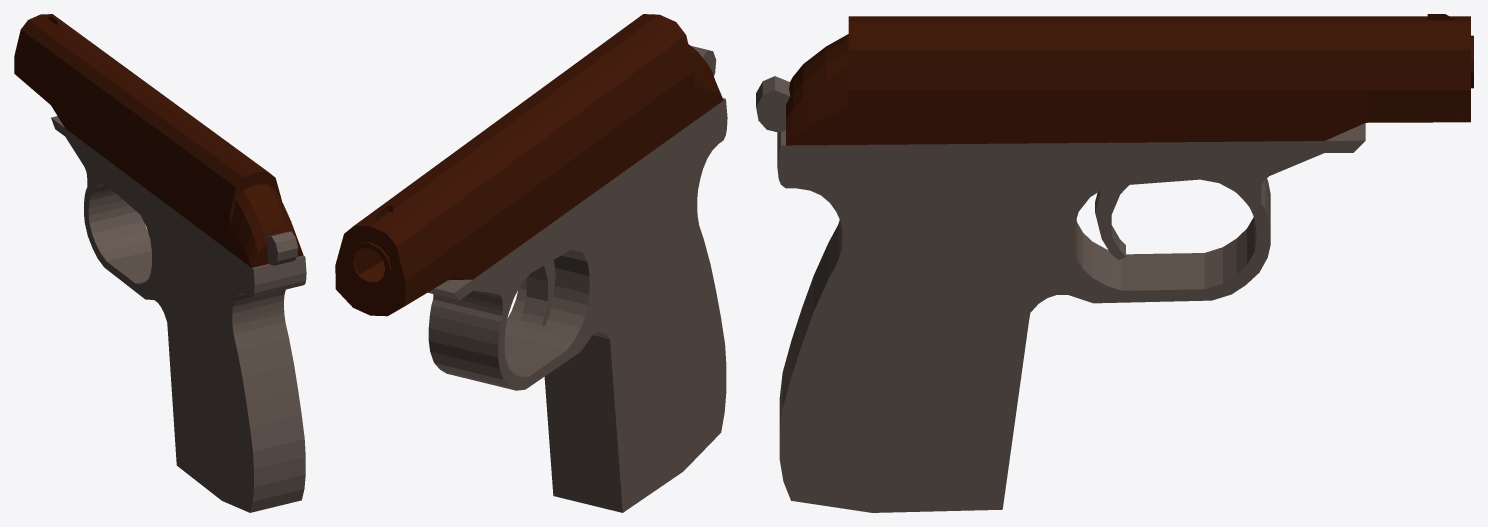
The model's file is MAKAROV (6).fbx.
The picture shows the model from 3 angles, left to right: view 1: azimuth 30°, elevation 25°; view 2: azimuth 150°, elevation 25°; view 3: azimuth 270°, elevation 25°; orthographic projection. The views are drawn at different scales.
Parts seen in each view (by area): view 1: TOP.001; view 2: TOP.001; view 3: TOP.001.
Part boxes in pixels (x1=…): TOP.001: x1=14, y1=14, x2=306, y2=512; TOP.001: x1=335, y1=14, x2=727, y2=512; TOP.001: x1=756, y1=14, x2=1473, y2=512.
Bounding box in the file's own units: 58.07 × 354 × 481.
